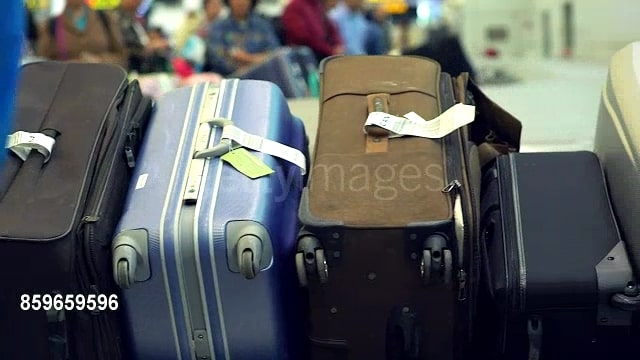baggage: (297, 45, 477, 360), (124, 70, 311, 360), (6, 64, 158, 360), (473, 151, 634, 360)
